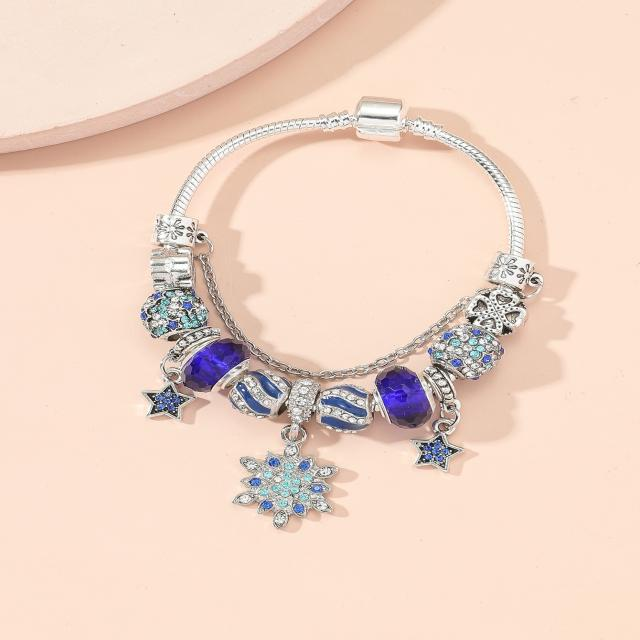bracelet: (46, 46, 640, 572)
